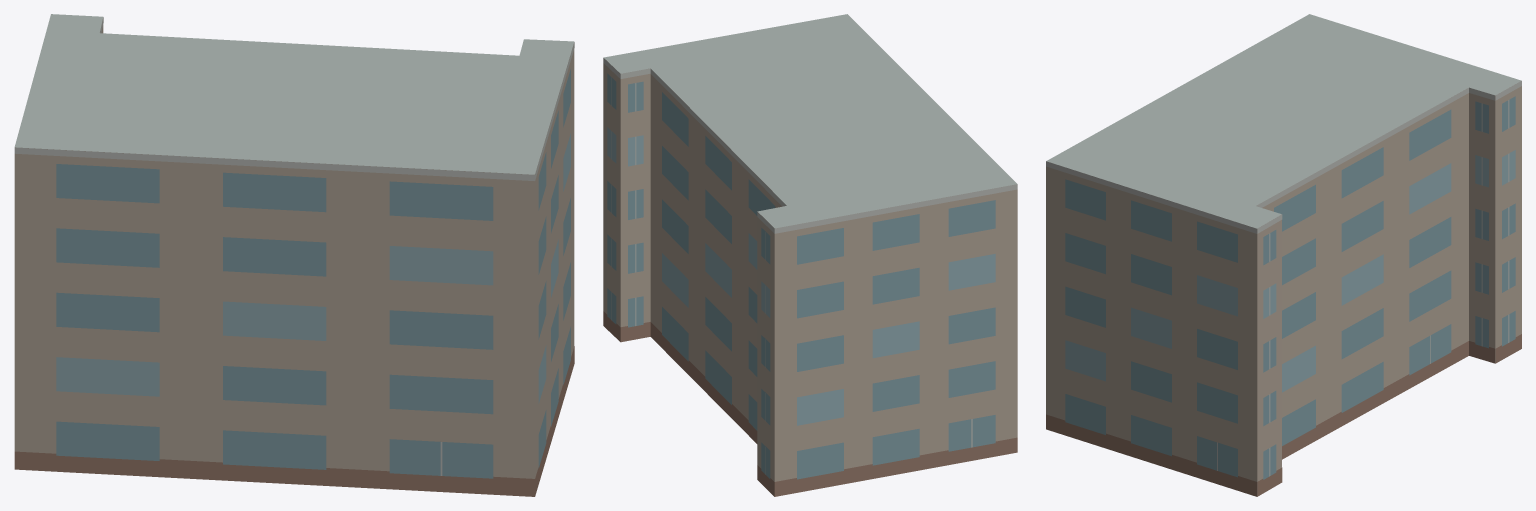
Rendered from survey-upis-32542508.glb.
The picture shows the model from 3 angles, left to right: view 1: azimuth 30°, elevation 25°; view 2: azimuth 150°, elevation 25°; view 3: azimuth 270°, elevation 25°; orthographic projection. The views are drawn at different scales.
Visible parts, largest first — view 1: survey-upis-32542508.tmp; view 2: survey-upis-32542508.tmp; view 3: survey-upis-32542508.tmp.
Part boxes in pixels (x1,y1,x2,y2): survey-upis-32542508.tmp: (14, 14, 574, 496); survey-upis-32542508.tmp: (603, 14, 1017, 496); survey-upis-32542508.tmp: (1046, 14, 1521, 496).
Size of the model in its own units: 21.13 by 12.3 by 19.78.
